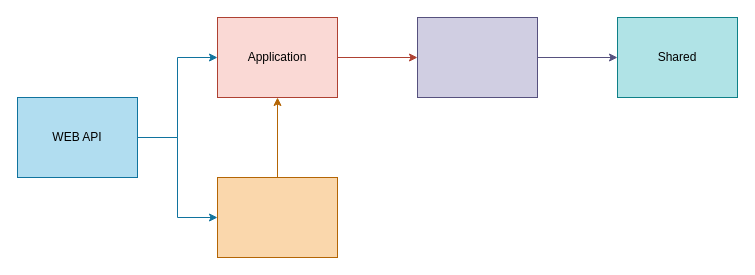
Some shapes in this 755 by 275 pixel diagram are drawn without their labels. The centre of each missing label's shape, as x and y in pixels:
"Domain" goes at point (477, 57).
"Infrastructure" goes at point (277, 217).
